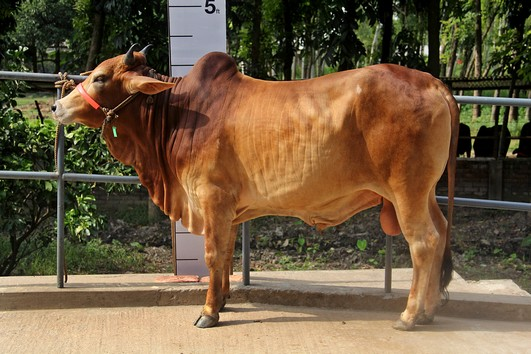cow: (47, 35, 464, 332)
